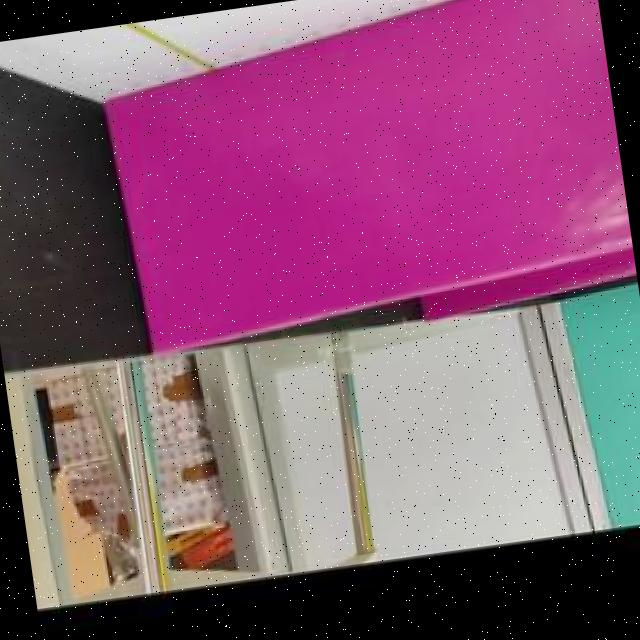xparking: (102, 0, 632, 352), (426, 255, 636, 319)
